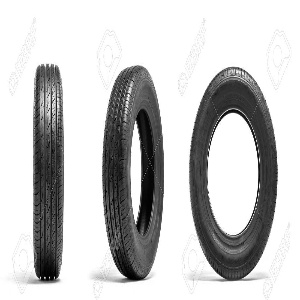tire: (187, 66, 281, 282), (100, 65, 163, 281), (29, 65, 65, 279)
